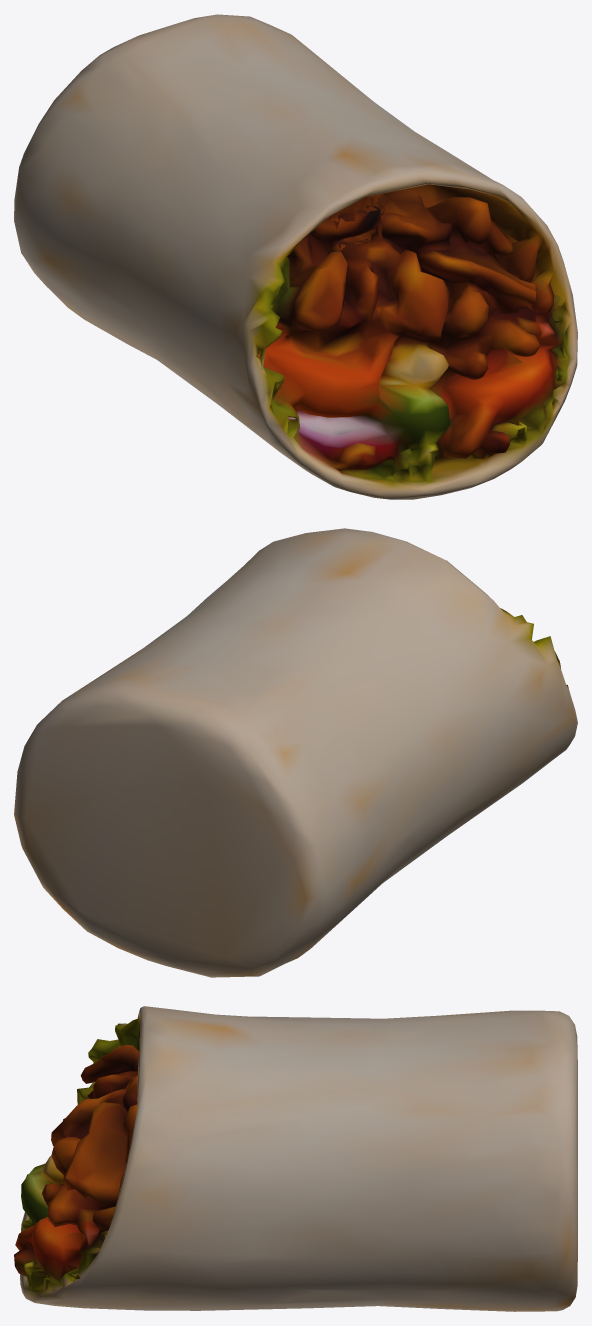
The picture shows the model from 3 angles, top to bottom: view 1: azimuth 30°, elevation 25°; view 2: azimuth 150°, elevation 25°; view 3: azimuth 270°, elevation 25°; orthographic projection. The views are drawn at different scales.
Visible parts, largest first — view 1: mesh_lpvc; view 2: mesh_lpvc; view 3: mesh_lpvc.
Boxes of the visible parts, x1,y1,x2,y2 form: mesh_lpvc: [14, 14, 577, 499]; mesh_lpvc: [14, 528, 577, 977]; mesh_lpvc: [14, 1006, 577, 1311].
Size of the model in its own units: 0.6631 by 0.54 by 1.04.
1 material, 1 textured.
